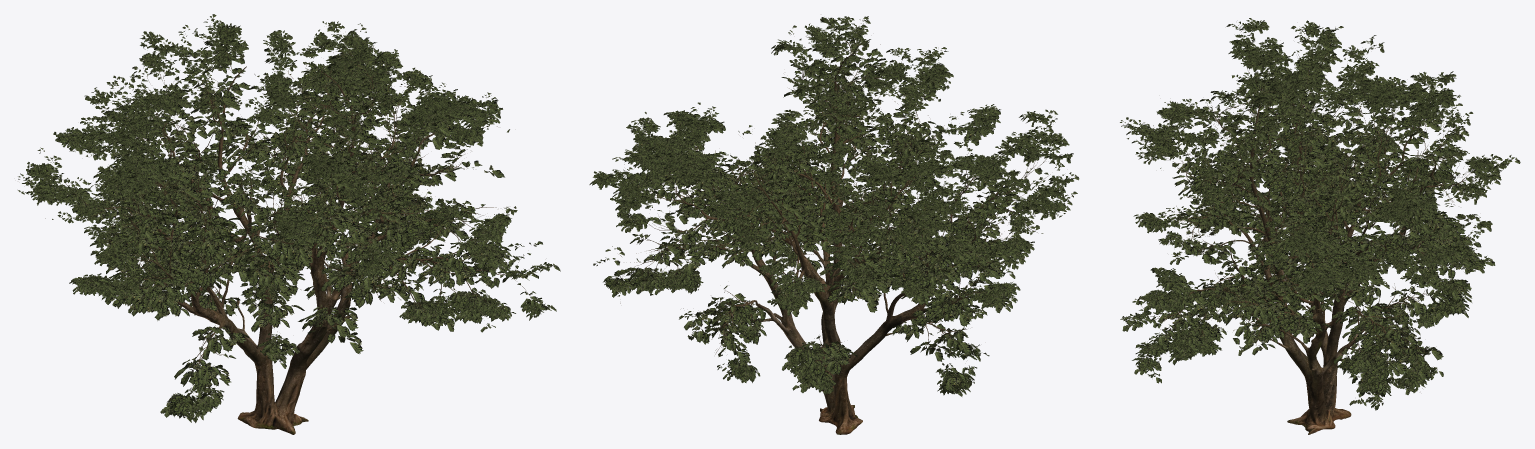
File: ph-jacaranda.glb
3 renders of one model, left to right at view 1: azimuth 30°, elevation 25°; view 2: azimuth 150°, elevation 25°; view 3: azimuth 270°, elevation 25°, orthographic. The views are drawn at different scales.
Visible parts, largest first — view 1: jacaranda_tree_LOD0; view 2: jacaranda_tree_LOD0; view 3: jacaranda_tree_LOD0.
Boxes of the visible parts, <box> form: jacaranda_tree_LOD0: <box>18,14,560,434</box>; jacaranda_tree_LOD0: <box>589,16,1079,434</box>; jacaranda_tree_LOD0: <box>1120,18,1520,434</box>.
Bounding box in the file's own units: 24.34 × 19.44 × 19.13.
Materials: 3 (3 with a texture image).
